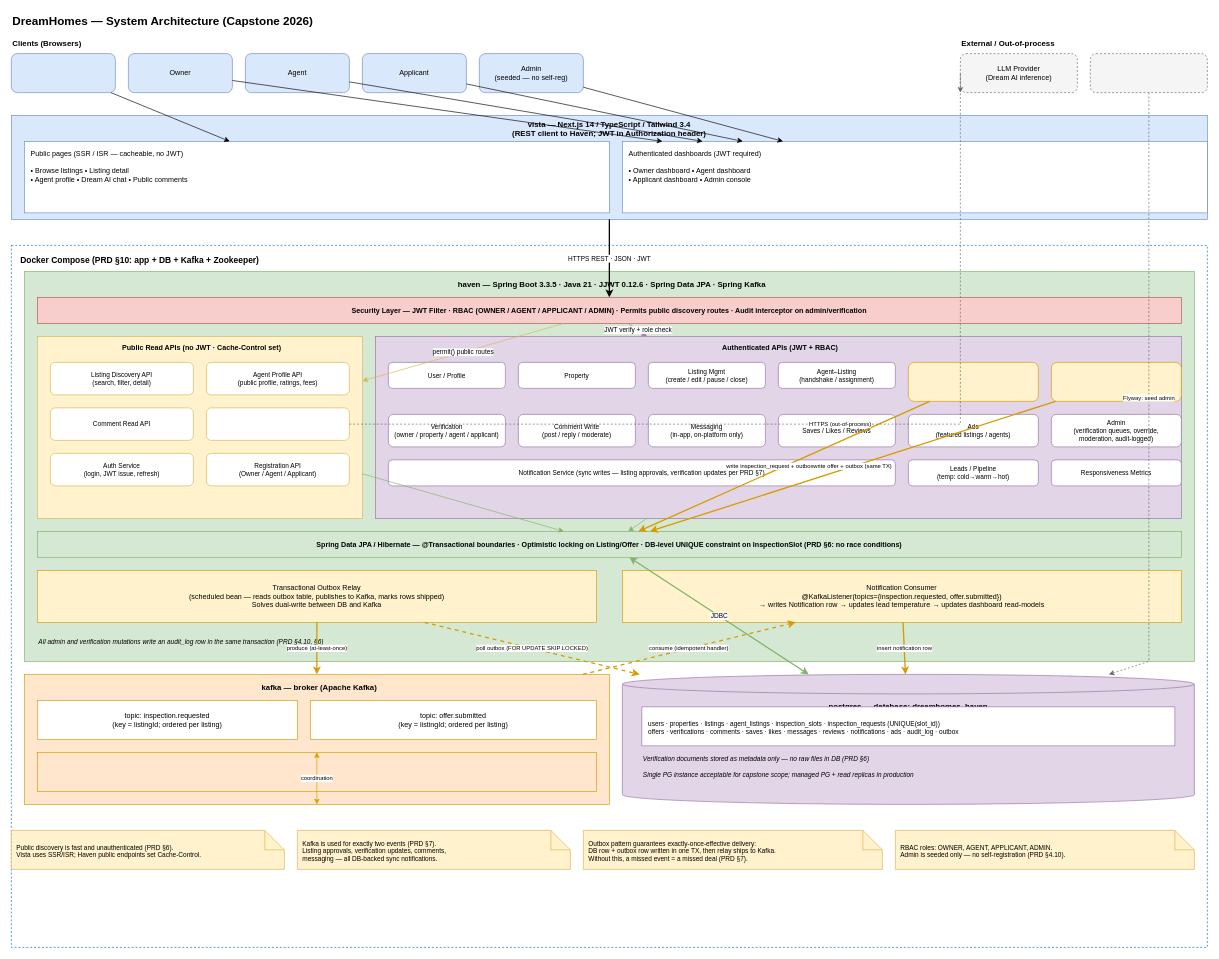
The diagram is 1219 pixels wide and 959 high, and some of its shapes have lost their labels. The shapes that lost their labels are listed below. From the top down, each one's centre as x and y in pixels, then its label:
At (x=63, y=73): "Public Visitor (no JWT)".
At (x=1148, y=73): "Platform Operator (seeds first admin via Flyway)".
At (x=973, y=381): "⚡ Inspection Service (slots + requests) Kafka producer".
At (x=1116, y=381): "⚡ Offer Service (offer + counter-offer) Kafka producer".
At (x=277, y=423): "Dream AI Service (conversational discovery) → external LLM".
At (x=316, y=771): "zookeeper — cluster coordination for Kafka".
